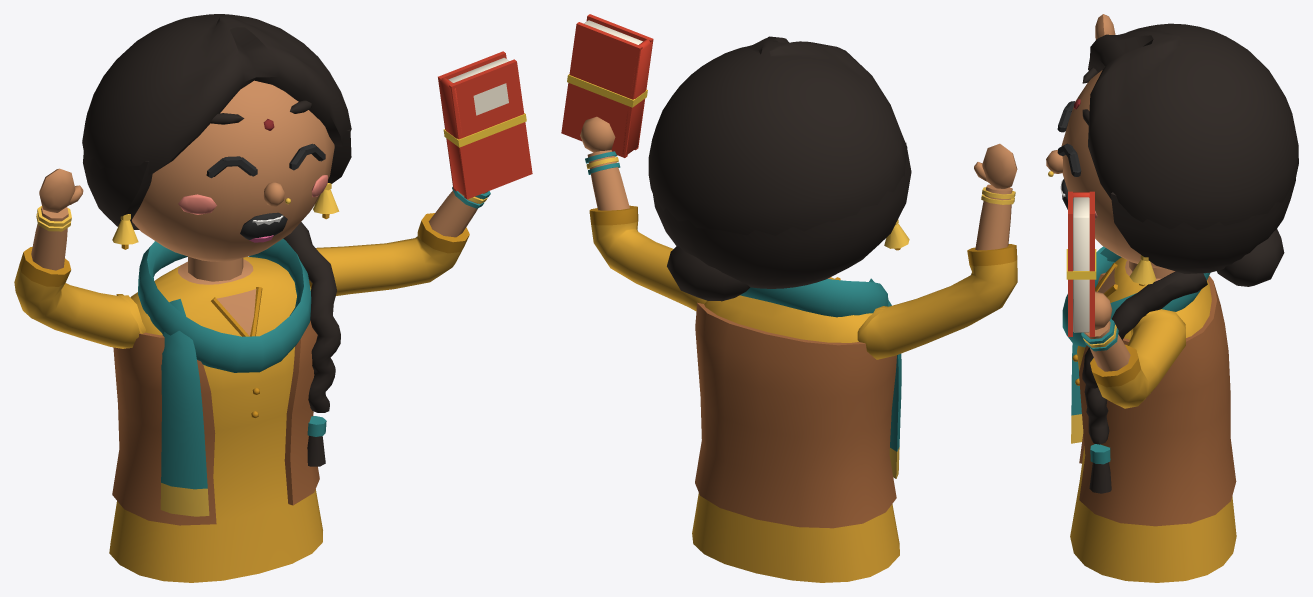
File: rani_cheer.glb
The picture shows the model from 3 angles, left to right: view 1: azimuth 30°, elevation 25°; view 2: azimuth 150°, elevation 25°; view 3: azimuth 270°, elevation 25°; orthographic projection. The views are drawn at different scales.
Parts seen in each view (by area): view 1: body, head, arm_l, arm_r; view 2: body, head, arm_l, arm_r; view 3: head, body, arm_l, arm_r.
Boxes of the visible parts, x1,y1,x2,y2 form: body: (109,222,340,582); head: (82,14,351,261); arm_l: (309,51,532,295); arm_r: (14,168,145,348); body: (692,277,901,582); head: (648,36,911,301); arm_l: (561,14,706,311); arm_r: (857,143,1017,359); head: (1046,23,1298,286); body: (1062,246,1236,582); arm_l: (1066,191,1185,408); arm_r: (1095,14,1115,39).
Bounding box in the file's own units: 1.46 × 1.48 × 0.6679.
1 material, 1 textured.
